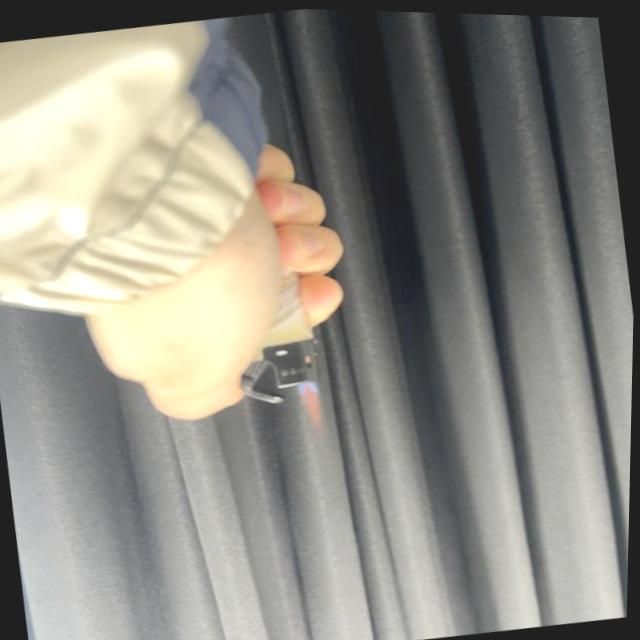helmet: (294, 377, 332, 444)
